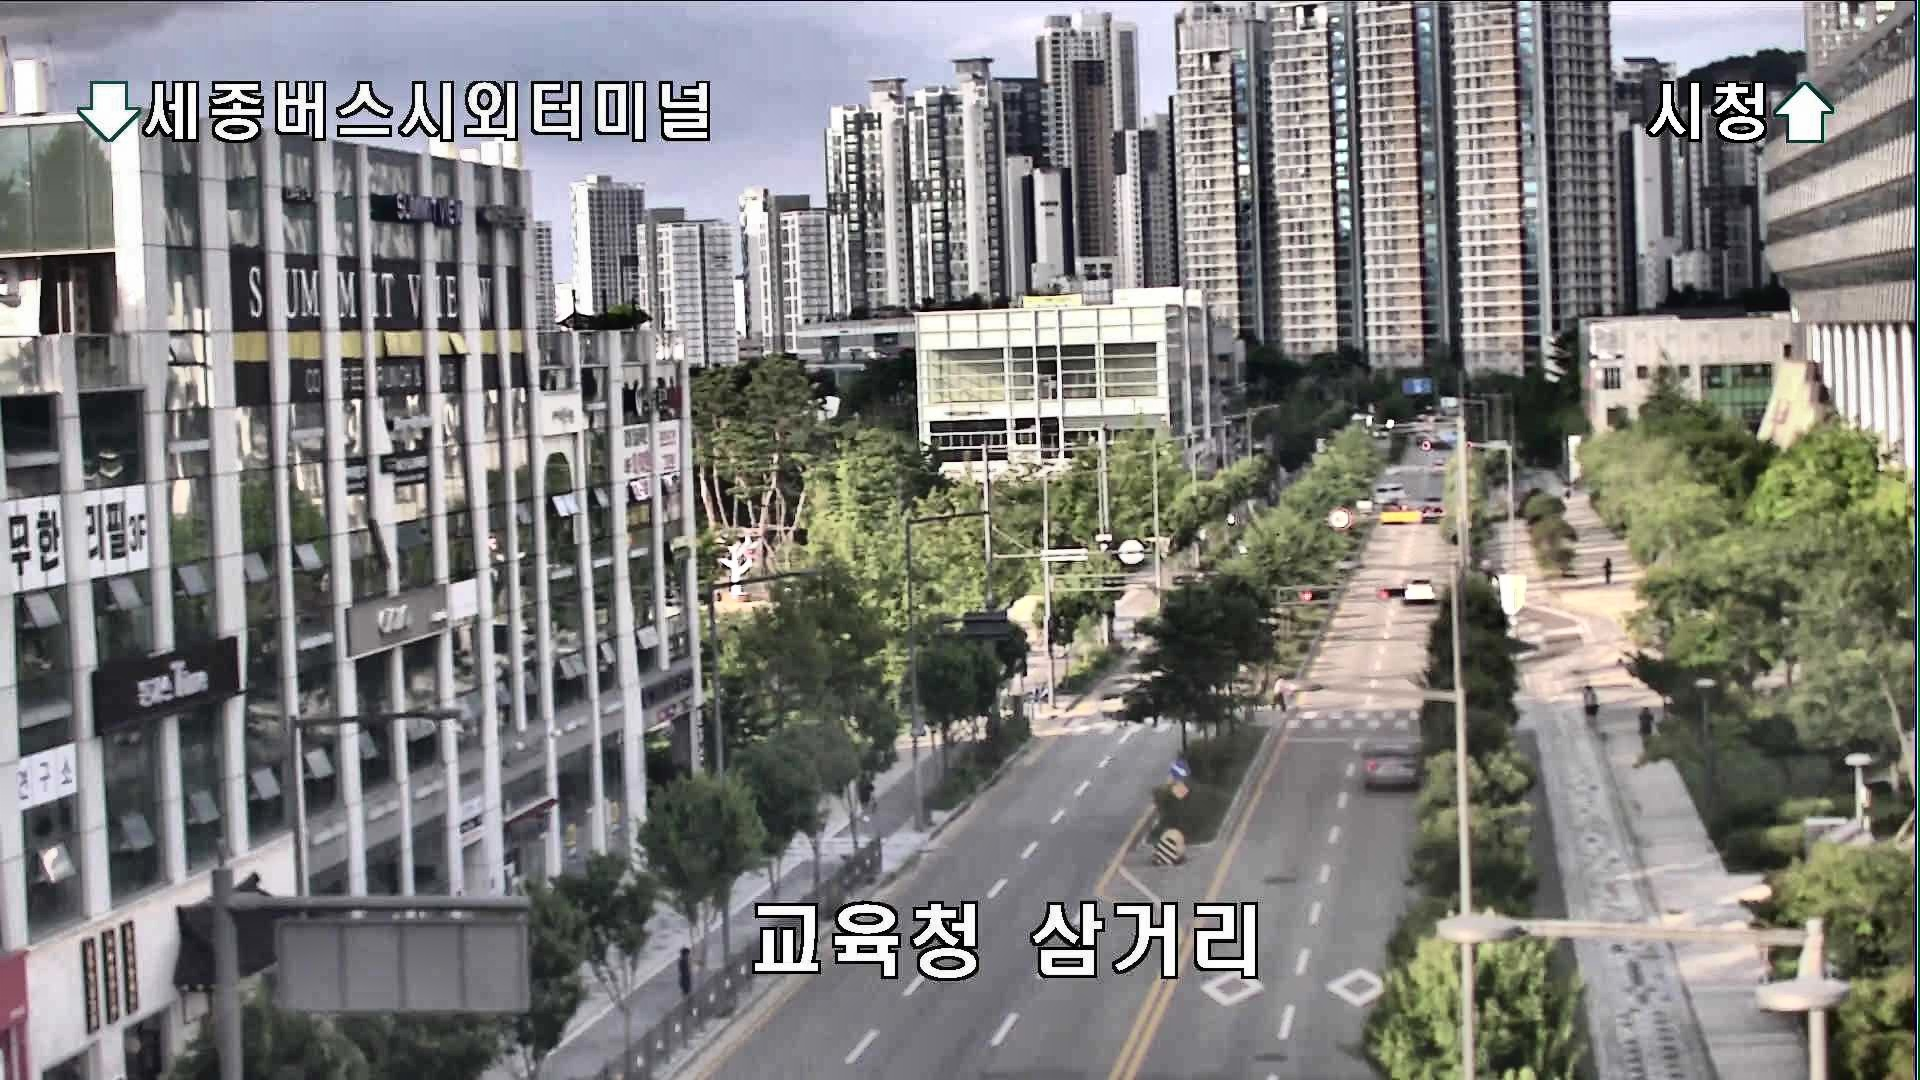crosswalk: (1269, 673, 1287, 717)
sidewalk: (675, 945, 699, 998), (1578, 684, 1601, 736), (856, 778, 878, 824), (1636, 704, 1655, 752)
